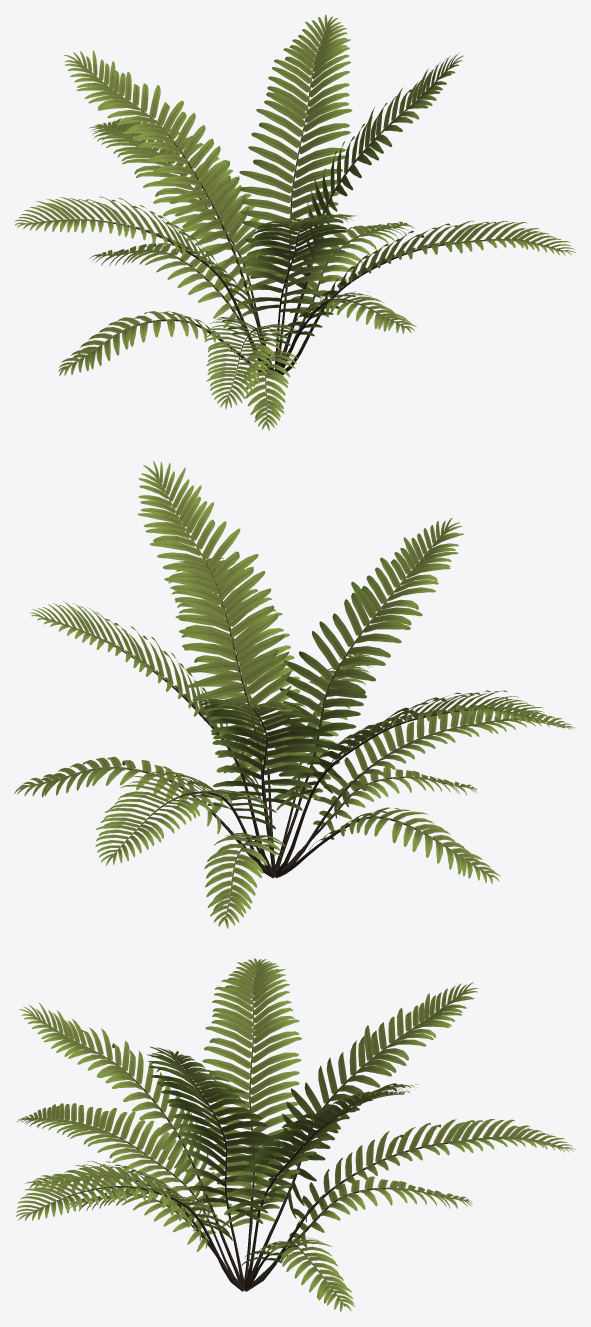
3 renders of one model, top to bottom at view 1: azimuth 30°, elevation 25°; view 2: azimuth 150°, elevation 25°; view 3: azimuth 270°, elevation 25°, orthographic. The views are drawn at different scales.
Visible parts, largest first — view 1: MH_Fern01_02.Shape; view 2: MH_Fern01_02.Shape; view 3: MH_Fern01_02.Shape.
Part boxes in pixels (x1,y1,x2,y2): MH_Fern01_02.Shape: [15, 14, 575, 430]; MH_Fern01_02.Shape: [14, 461, 575, 928]; MH_Fern01_02.Shape: [16, 958, 575, 1311].
Size of the model in its own units: 0.7539 by 0.5088 by 0.8233.
Materials: 2 (2 with a texture image).
